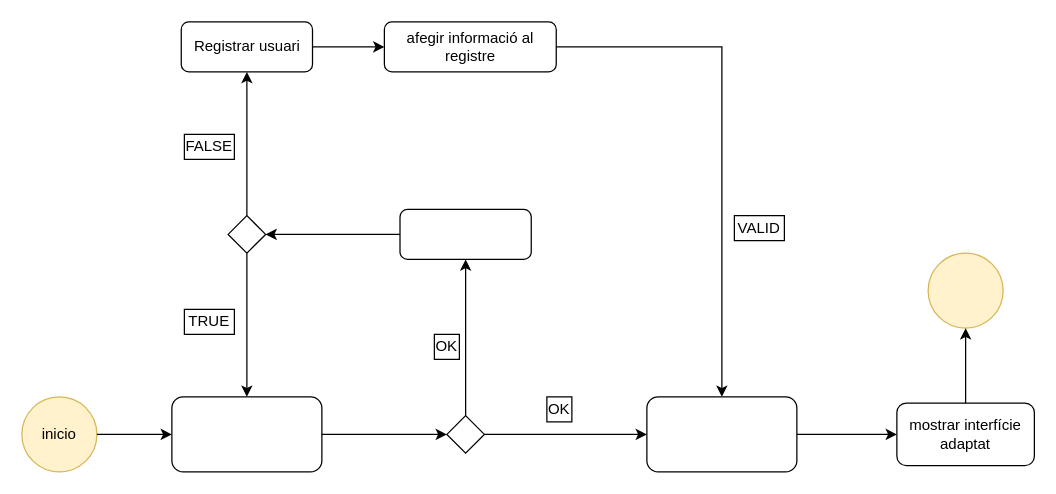
The diagram is 1056 pixels wide and 494 high, and some of its shapes have lost their labels. Here are the shapes that lost their labels. From the top down, the box of each, then its label:
(399, 208, 531, 259): Mostrar error
(927, 252, 1003, 328): Fin
(171, 396, 322, 472): Autenticació usuari
(646, 396, 797, 472): accés a l'aplicació
